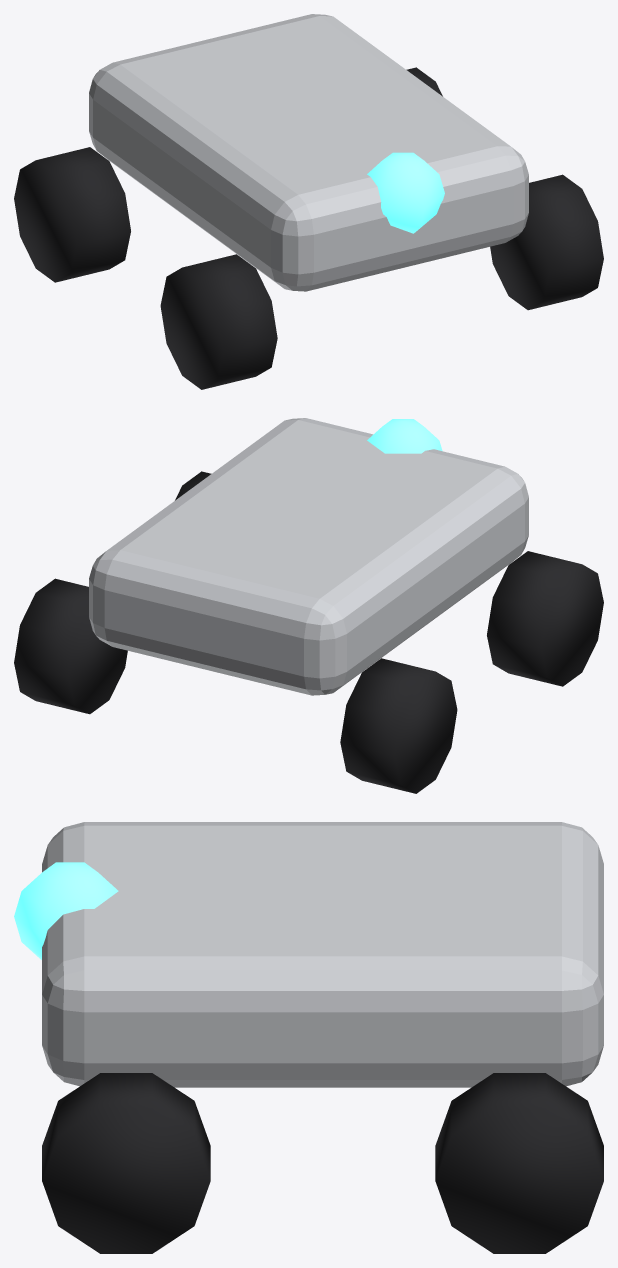
File: minibot_crawler.glb
3 views of the same model, one above another, from view 1: azimuth 30°, elevation 25°; view 2: azimuth 150°, elevation 25°; view 3: azimuth 270°, elevation 25° (orthographic). The views are drawn at different scales.
Visible parts, largest first — view 1: GD_minibot_crawler__m0, GD_minibot_crawler__m1, GD_minibot_crawler__m2; view 2: GD_minibot_crawler__m0, GD_minibot_crawler__m1, GD_minibot_crawler__m2; view 3: GD_minibot_crawler__m0, GD_minibot_crawler__m1, GD_minibot_crawler__m2.
Part boxes in pixels (x1=…): GD_minibot_crawler__m0: x1=89, y1=14, x2=528, y2=291; GD_minibot_crawler__m1: x1=14, y1=67, x2=603, y2=389; GD_minibot_crawler__m2: x1=367, y1=152, x2=444, y2=233; GD_minibot_crawler__m0: x1=89, y1=418, x2=528, y2=695; GD_minibot_crawler__m1: x1=14, y1=471, x2=603, y2=793; GD_minibot_crawler__m2: x1=367, y1=419, x2=442, y2=453; GD_minibot_crawler__m0: x1=42, y1=822, x2=603, y2=1087; GD_minibot_crawler__m1: x1=42, y1=1073, x2=603, y2=1253; GD_minibot_crawler__m2: x1=14, y1=862, x2=118, y2=959.
Bounding box in the file's own units: 0.21 × 0.1035 × 0.21.
